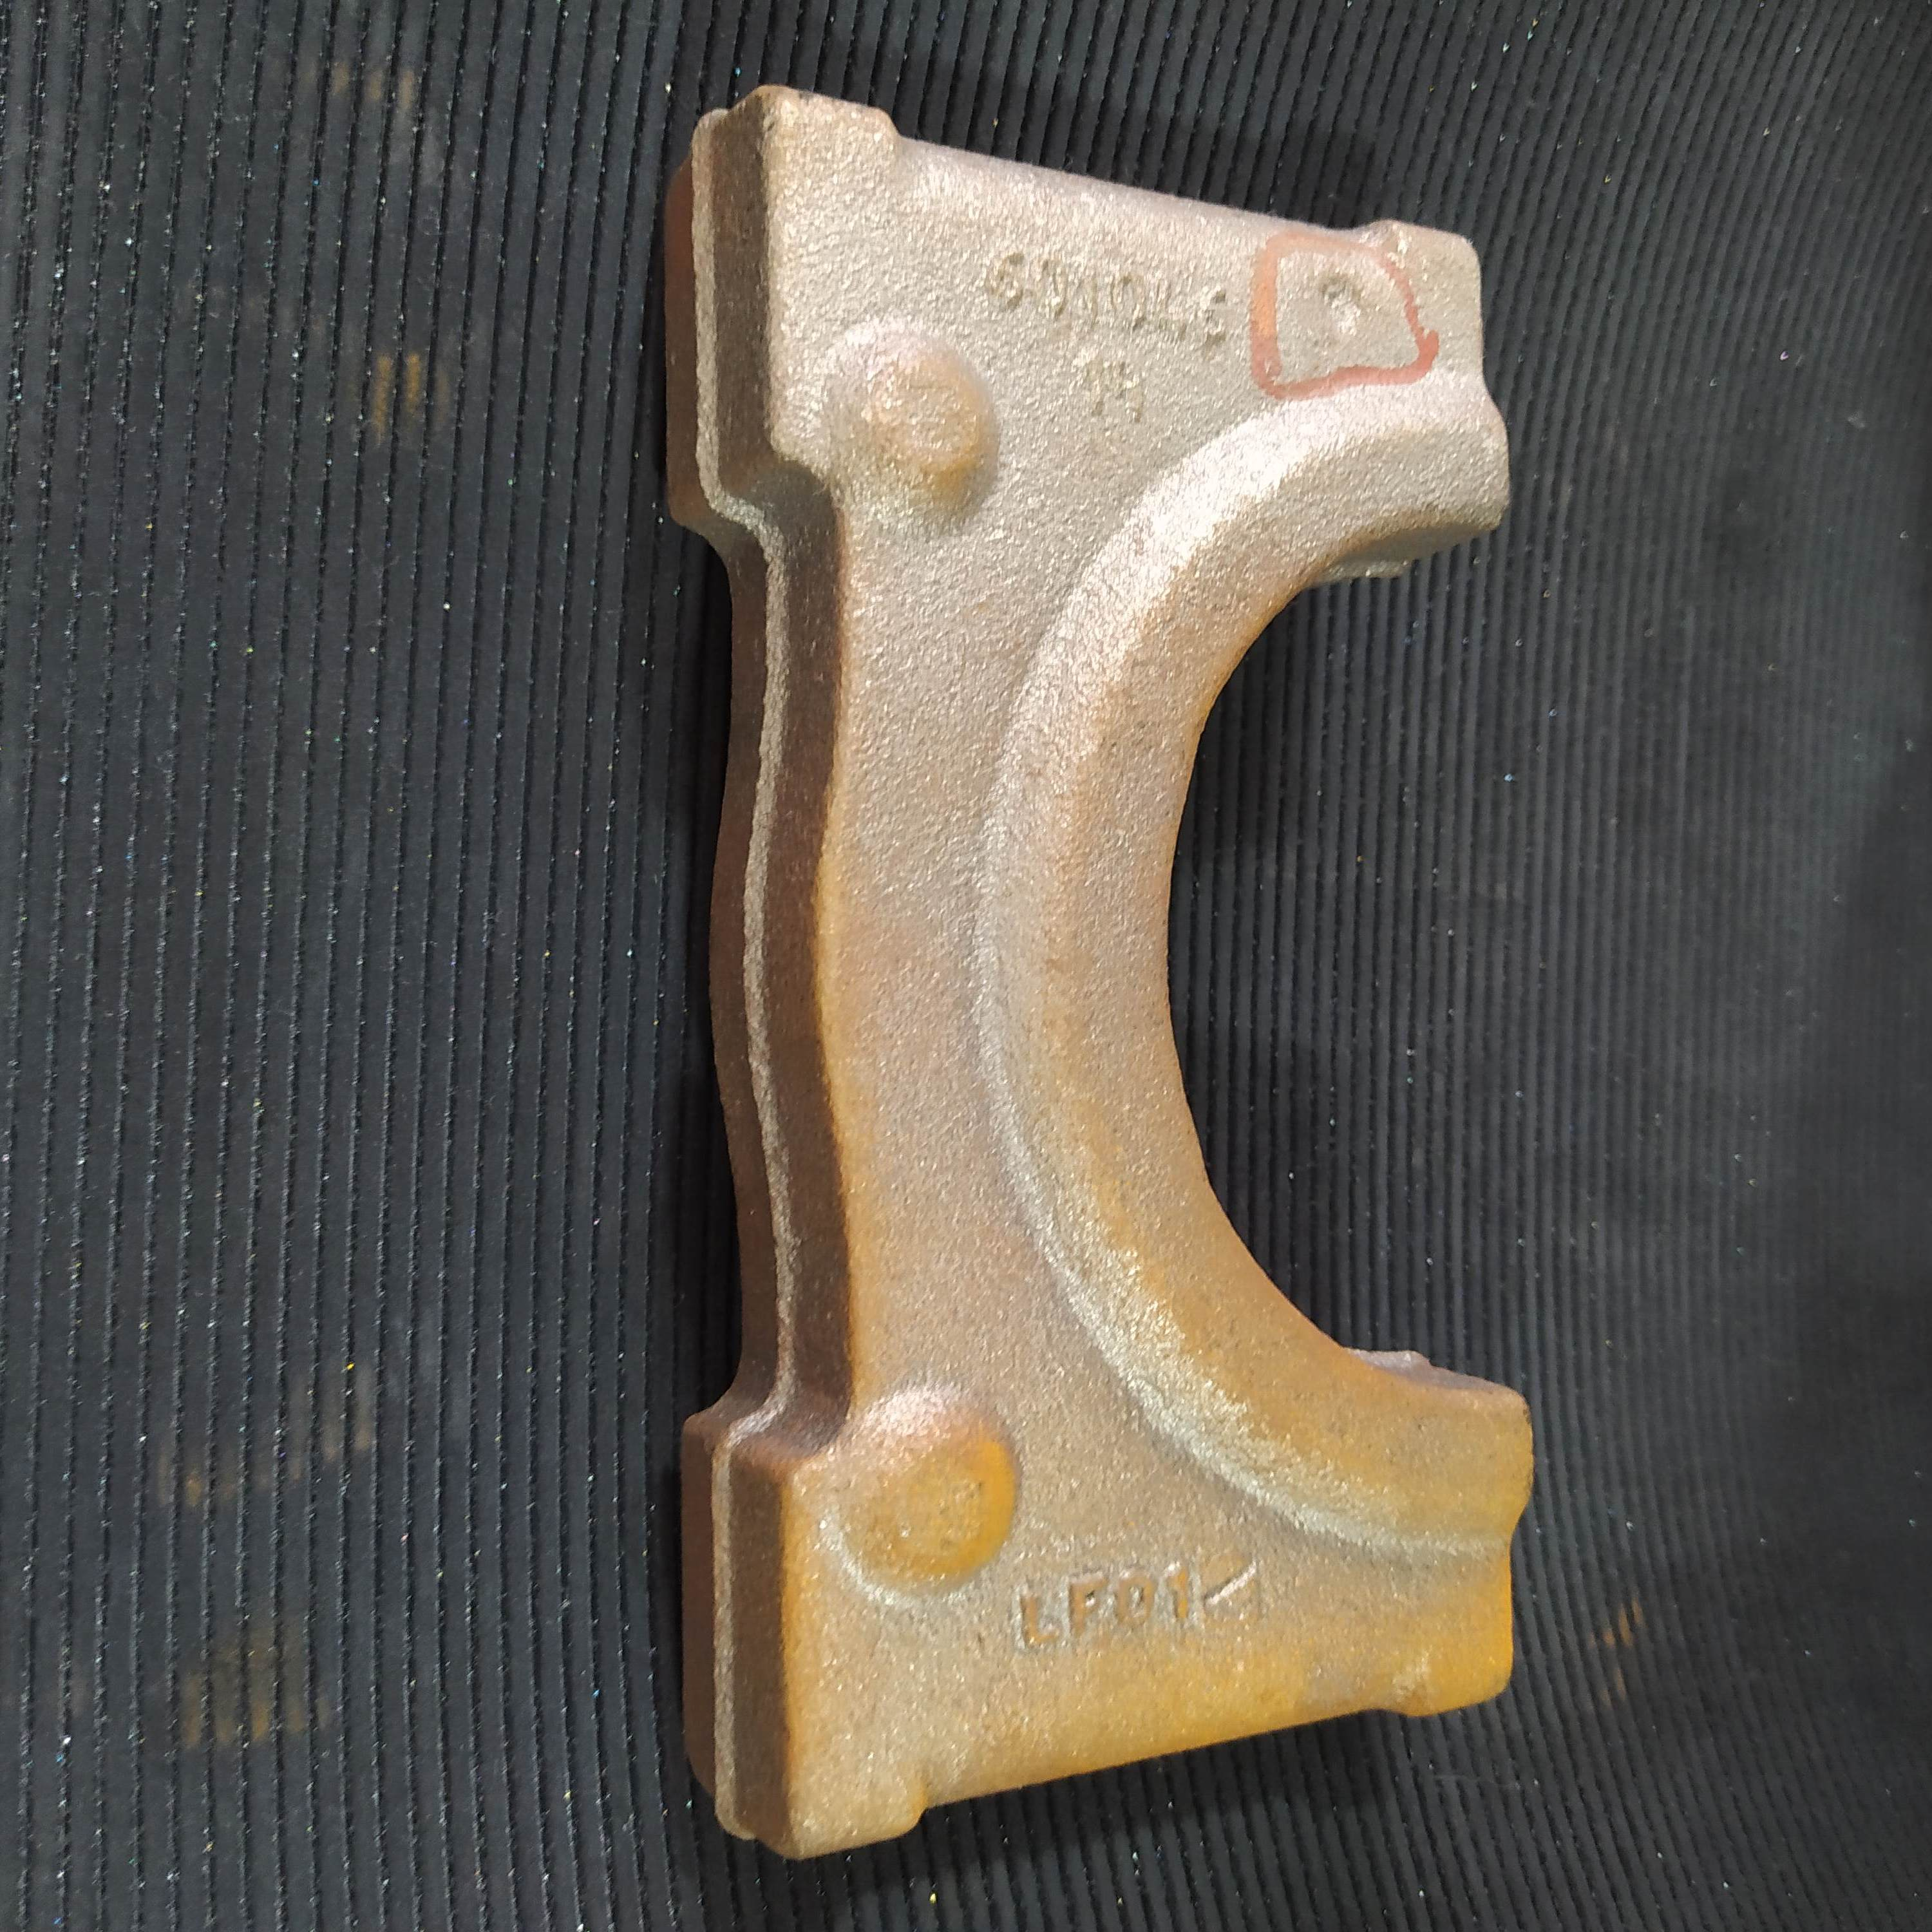buraco: (1316, 264, 1373, 345)
